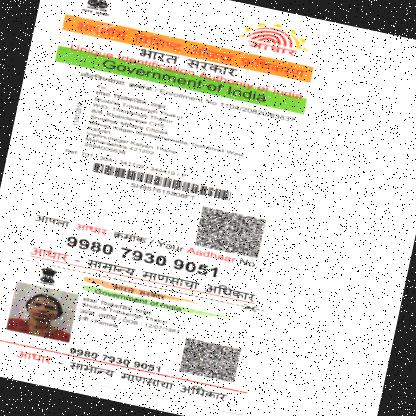aadhaar_card: (0, 0, 327, 415)
